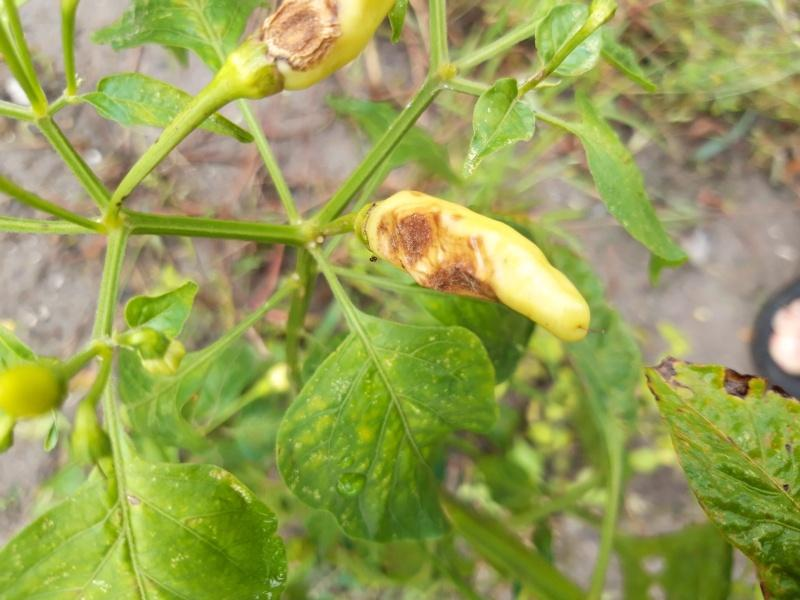antraknosa: (360, 189, 591, 344), (258, 0, 400, 97)
